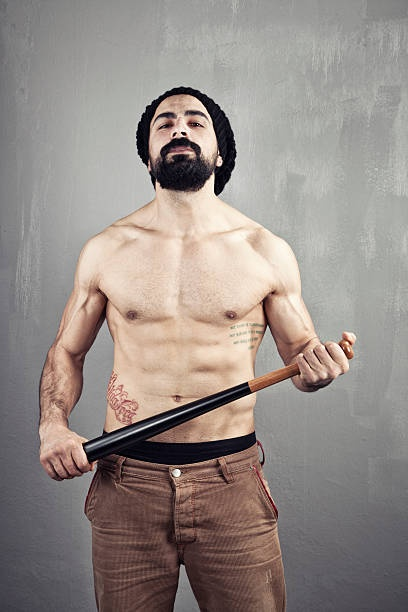bita: (64, 348, 337, 471)
